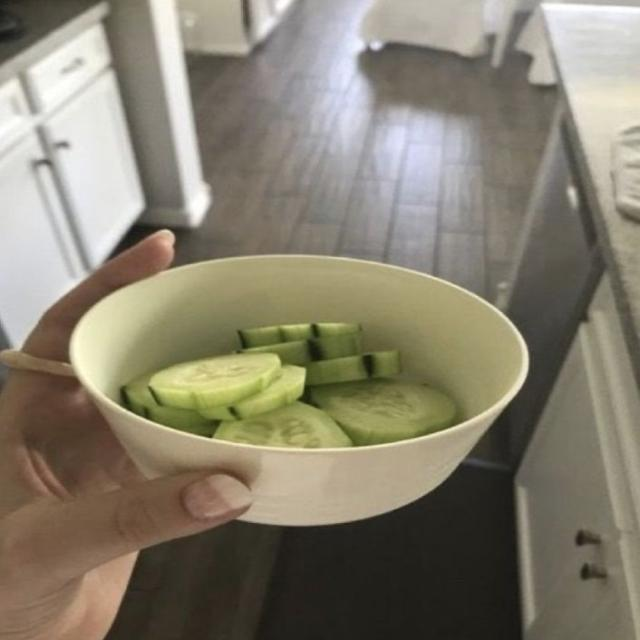cucumber sliced: (311, 380, 456, 445), (150, 354, 281, 409), (214, 402, 352, 448), (121, 373, 217, 436), (200, 365, 305, 419), (242, 333, 361, 364), (306, 351, 400, 385), (238, 323, 361, 348)
